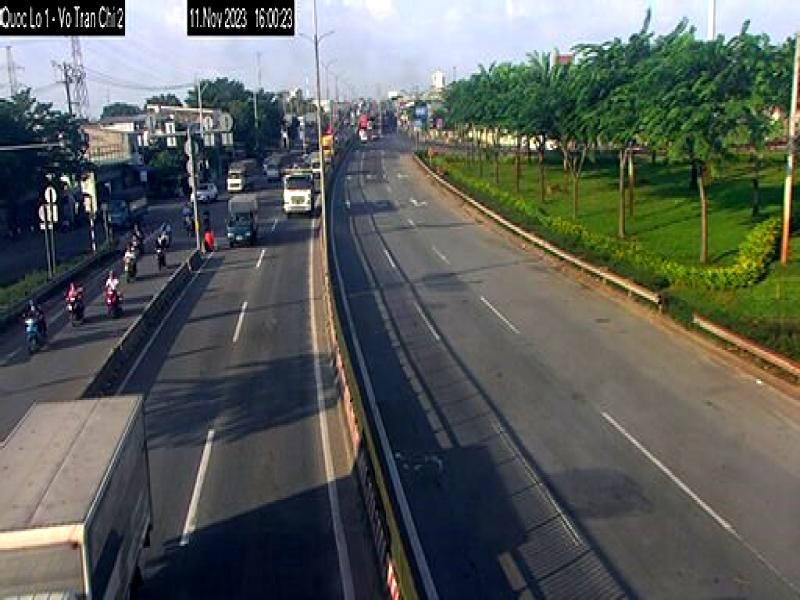truck: (225, 192, 258, 248), (283, 165, 316, 218)
